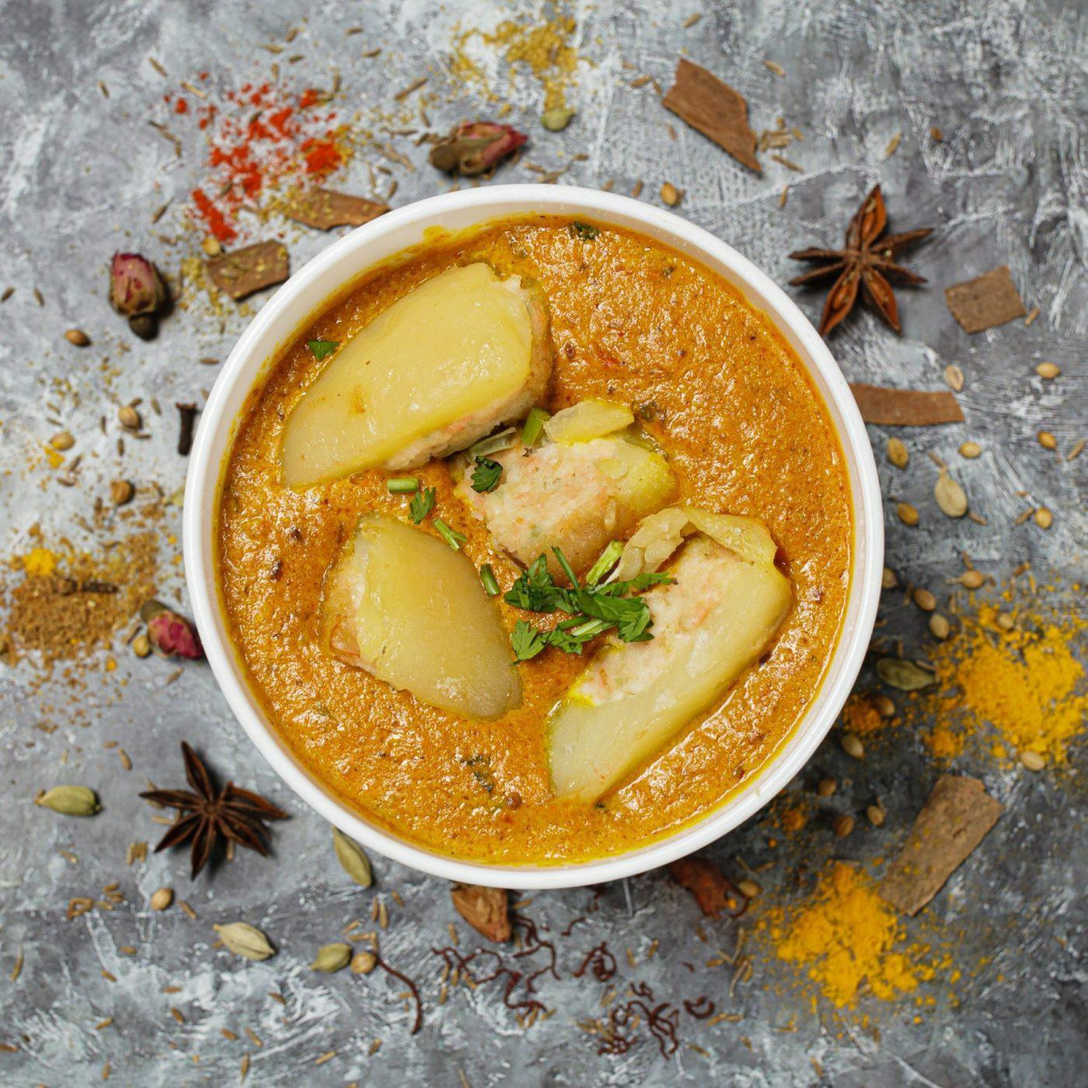DumAloo: (214, 211, 857, 871)
